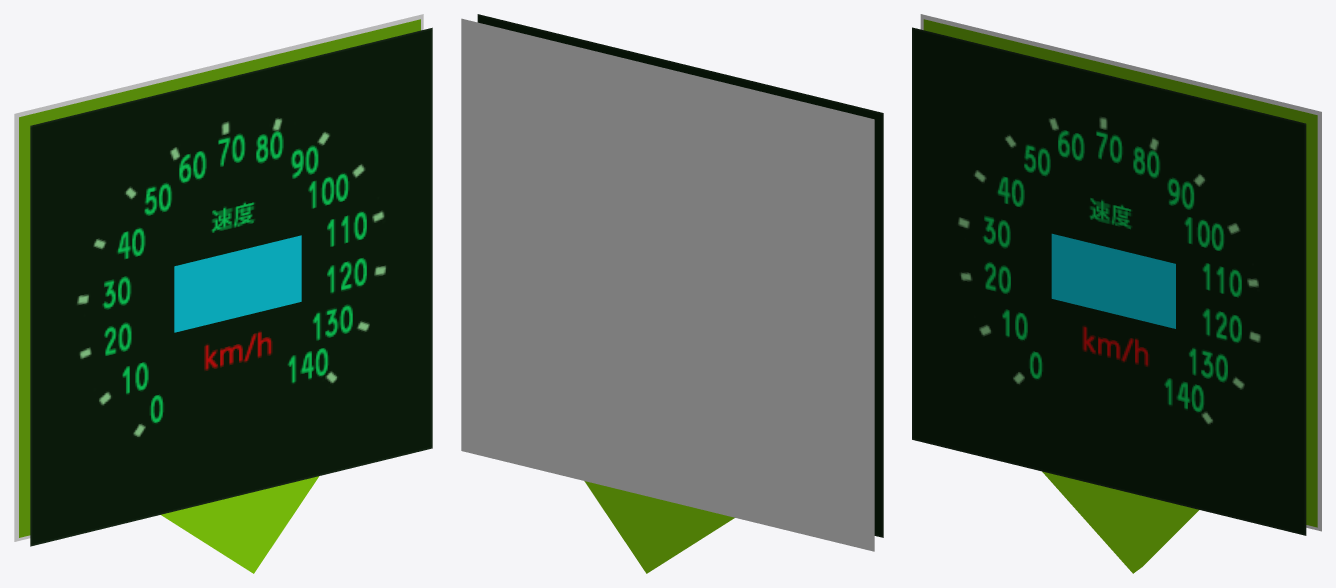
Rendered from METER_00.glb.
3 renders of one model, left to right at view 1: azimuth 30°, elevation 25°; view 2: azimuth 150°, elevation 25°; view 3: azimuth 330°, elevation 25°, orthographic. The views are drawn at different scales.
Parts seen in each view (by area): view 1: meter, meterBG, speed, speed0-30, meterBG2; view 2: meterBG2, meter, speed210-240; view 3: meter, meterBG, speed, speed0-30, meterBG2.
Boxes of the visible parts, x1,y1,x2,y2 form: meter: [30, 27, 432, 546]; meterBG: [19, 19, 420, 537]; speed: [174, 235, 301, 332]; speed0-30: [161, 476, 319, 573]; meterBG2: [14, 14, 423, 541]; meterBG2: [461, 18, 874, 551]; meter: [477, 14, 883, 537]; speed210-240: [584, 481, 734, 573]; meter: [912, 27, 1306, 535]; meterBG: [923, 19, 1317, 527]; speed: [1051, 233, 1175, 328]; speed0-30: [1042, 471, 1197, 573]; meterBG2: [920, 14, 1321, 531].
Bounding box in the file's own units: 1.03 × 1.22 × 0.0579.
12 materials, 12 textured.
